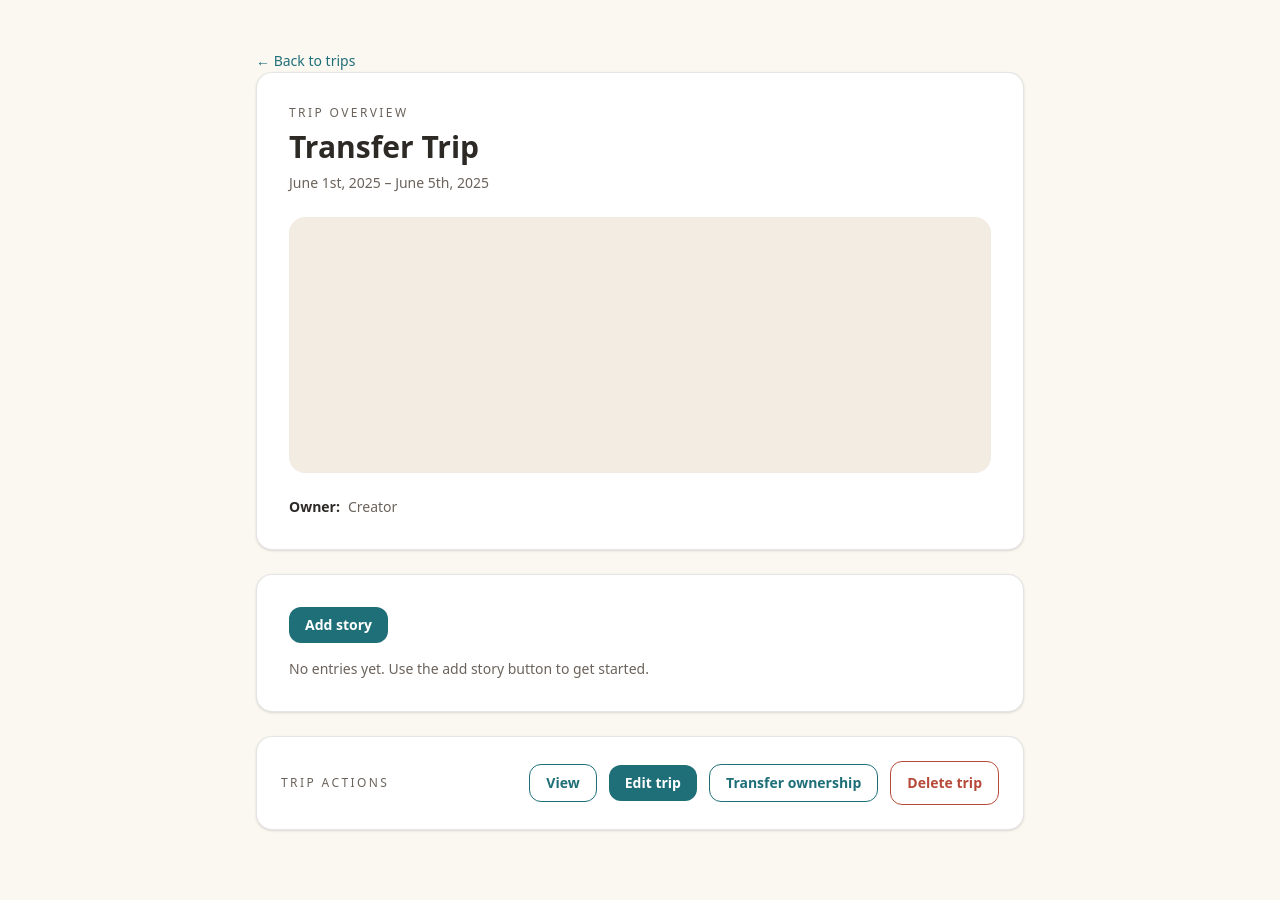
TripDetail › lists only eligible users in the transfer ownership selector
The width and height of the screenshot is (1280, 900).
Step 1. Click the button "Transfer ownership" → (794, 783), box [709, 764, 878, 802]
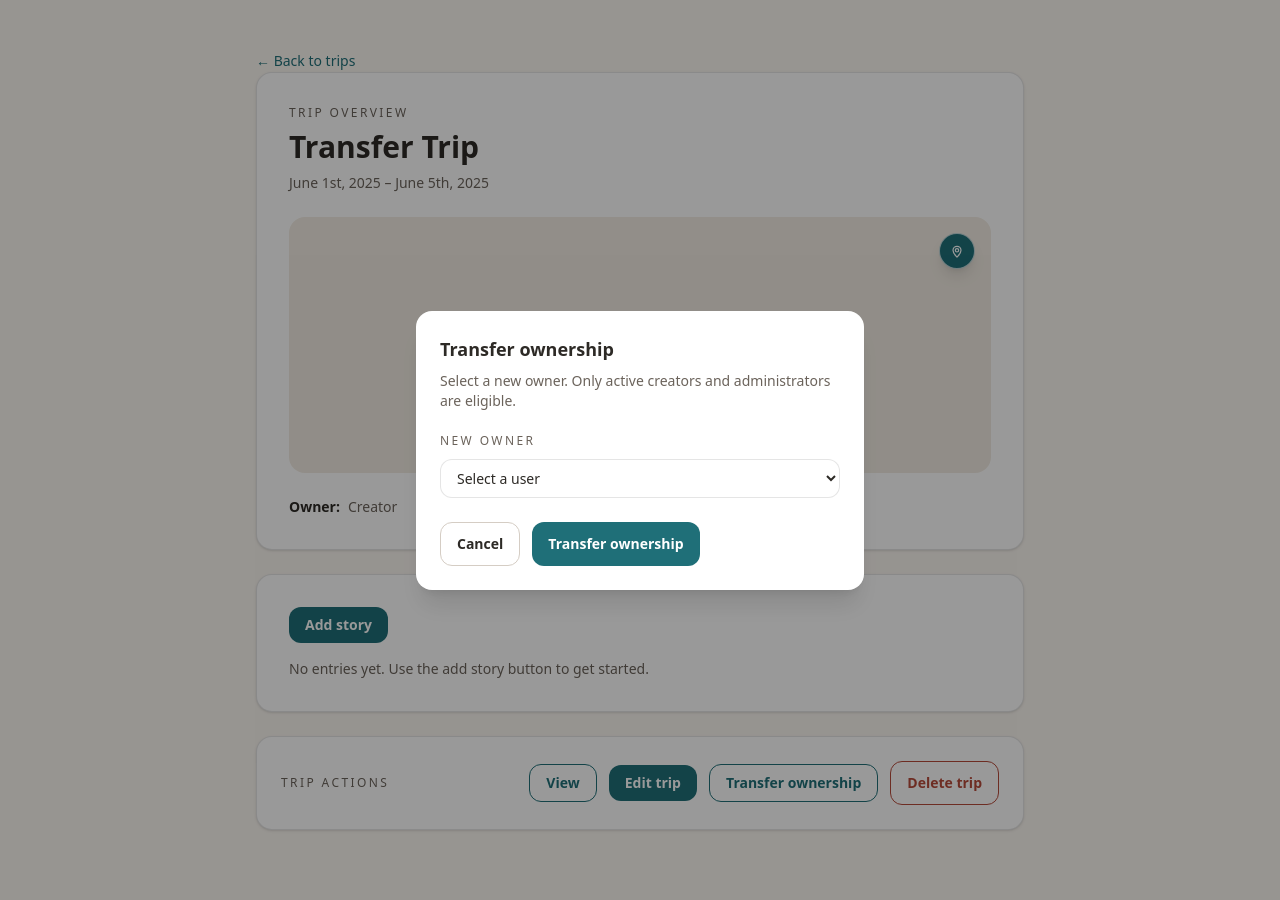
Check: the dropdown labelled "New owner" is shown, box [440, 458, 840, 498]
